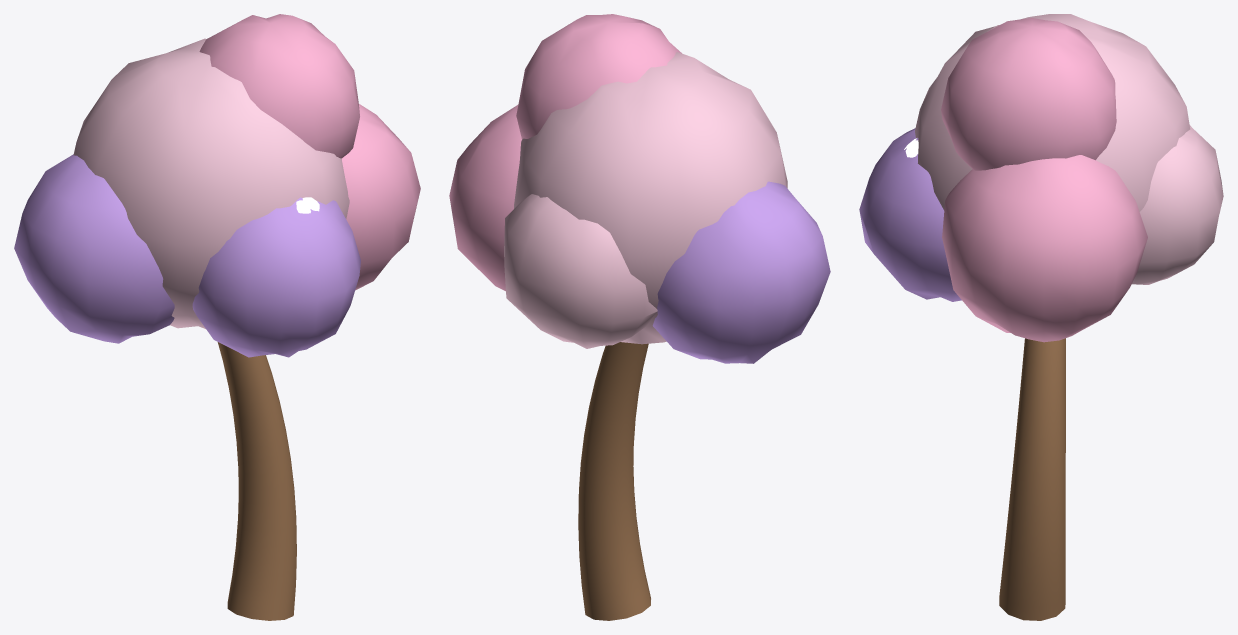
File: CandyTree_Puff.fbx
3 renders of one model, left to right at view 1: azimuth 30°, elevation 25°; view 2: azimuth 150°, elevation 25°; view 3: azimuth 270°, elevation 25°, orthographic.
Visible parts, largest first — view 1: CandyTree_Puff; view 2: CandyTree_Puff; view 3: CandyTree_Puff.
Boxes of the visible parts, box(x1,y1,x2,y2) form: CandyTree_Puff: box(14, 14, 420, 620); CandyTree_Puff: box(449, 14, 830, 620); CandyTree_Puff: box(859, 14, 1223, 620).
Size of the model in its own units: 7.31 by 11.3 by 6.37.
